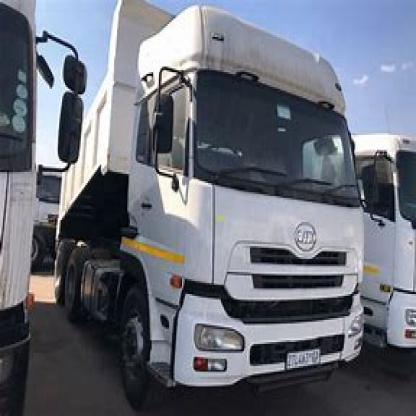dump_truck: (68, 9, 374, 412)
